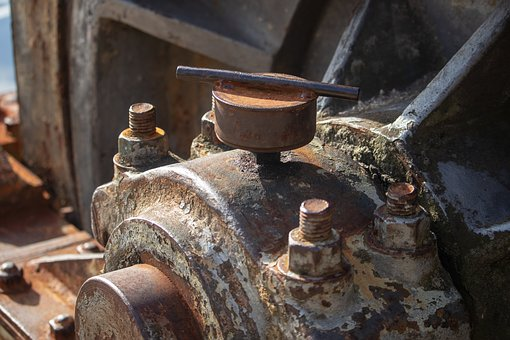rust: (206, 67, 325, 155), (69, 265, 196, 332), (333, 286, 473, 338), (288, 199, 350, 274), (118, 104, 171, 145), (374, 187, 430, 220)
